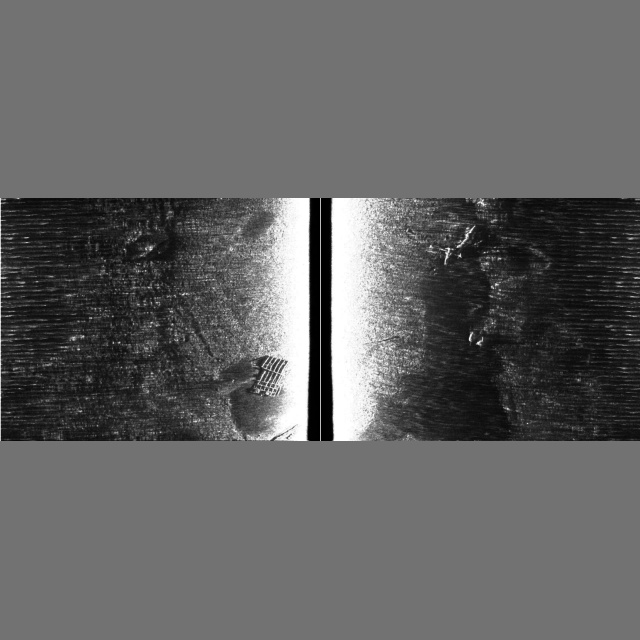Shipwreck: (251, 225, 484, 441)
